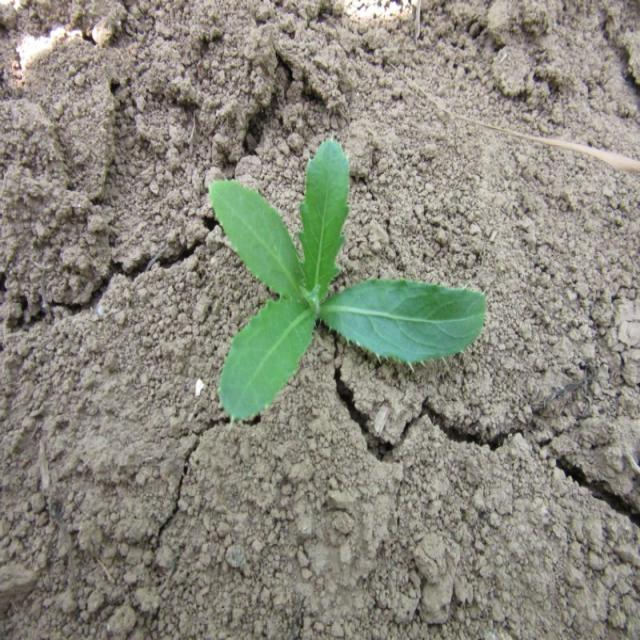field_thistle: (193, 143, 488, 412)
